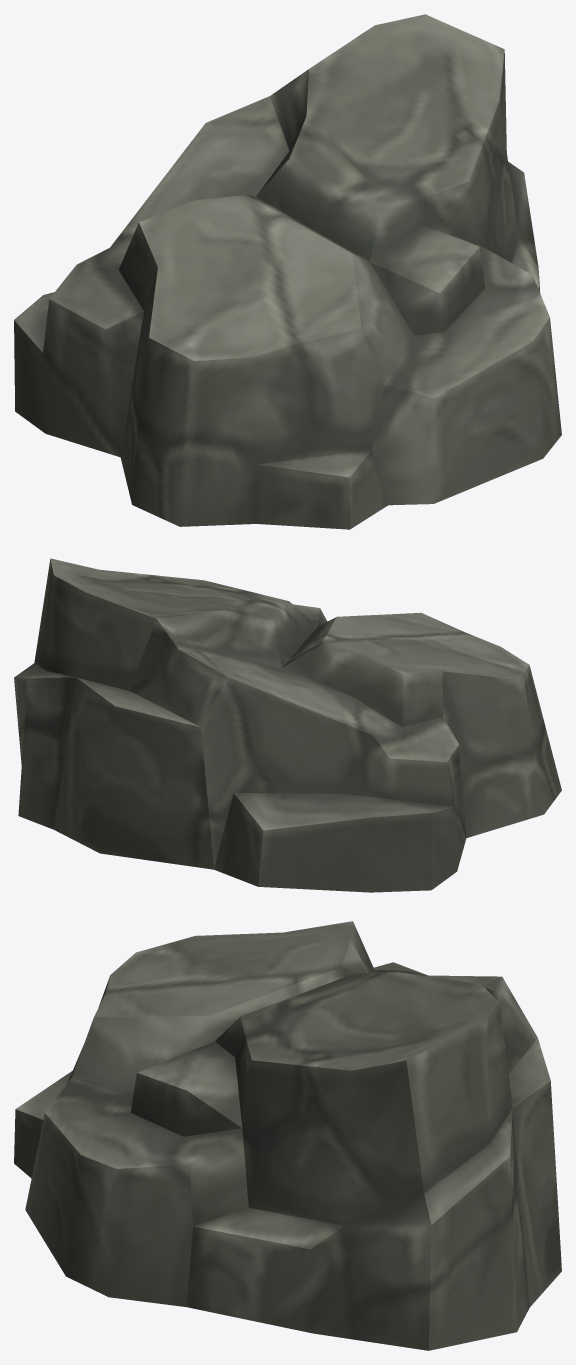
Rendered from rock_a_1.FBX.
3 renders of one model, top to bottom at view 1: azimuth 30°, elevation 25°; view 2: azimuth 150°, elevation 25°; view 3: azimuth 270°, elevation 25°, orthographic. The views are drawn at different scales.
Parts seen in each view (by area): view 1: polySurface565; view 2: polySurface565; view 3: polySurface565.
Boxes of the visible parts, <box> form: polySurface565: <box>14,14,561,529</box>; polySurface565: <box>14,558,561,892</box>; polySurface565: <box>14,921,561,1350</box>.
Bounding box in the file's own units: 66.62 × 58.49 × 35.12.
